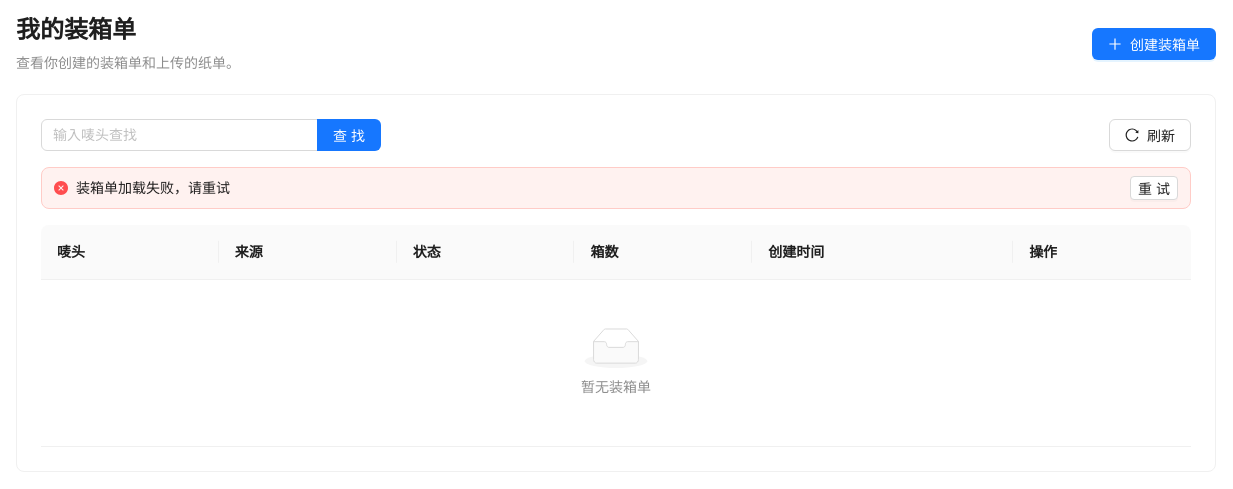
Test: shows a safe load error and retries without exposing internal recognition messages
The width and height of the screenshot is (1233, 489).
Check: the text "装箱单加载失败，请重试" is shown, box [76, 179, 230, 196]
Click the button "重 试" at [1154, 188], box [1130, 176, 1178, 200]
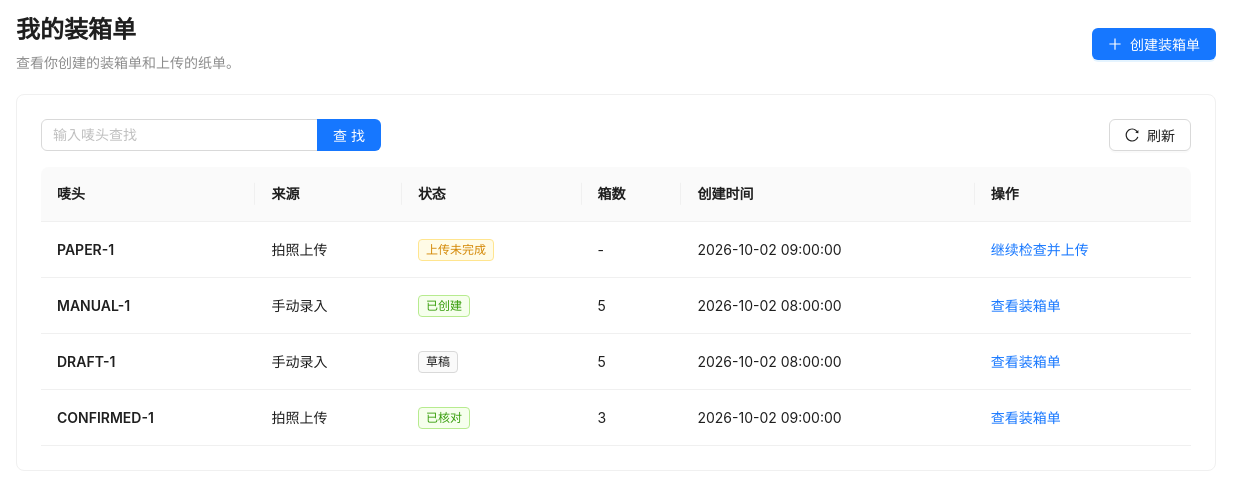
Check: the text "MANUAL-1" is shown, box [57, 296, 130, 314]
Check: the text "装箱单加载失败，请重试" is gone
